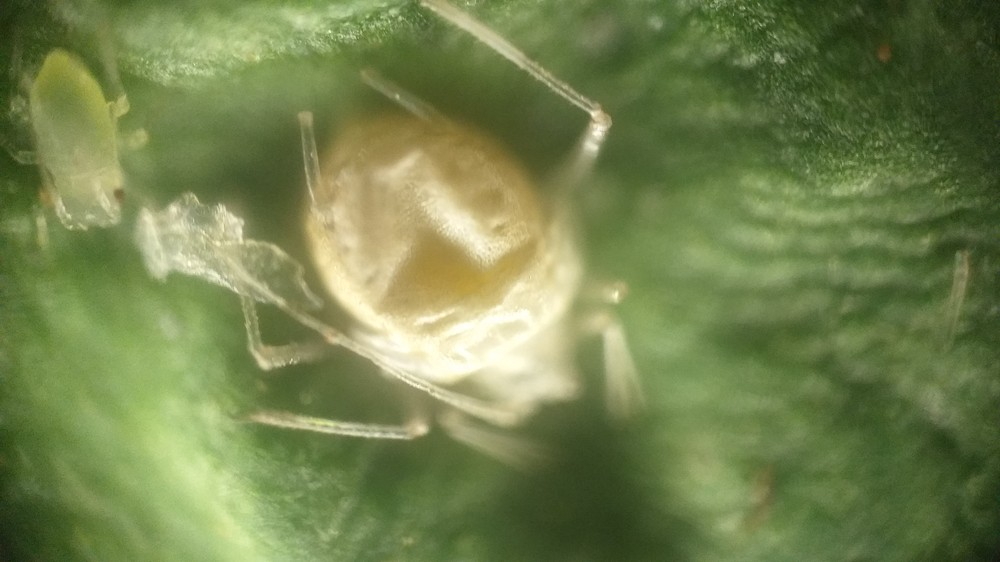Pulgon: (224, 9, 691, 515), (8, 17, 170, 267)
